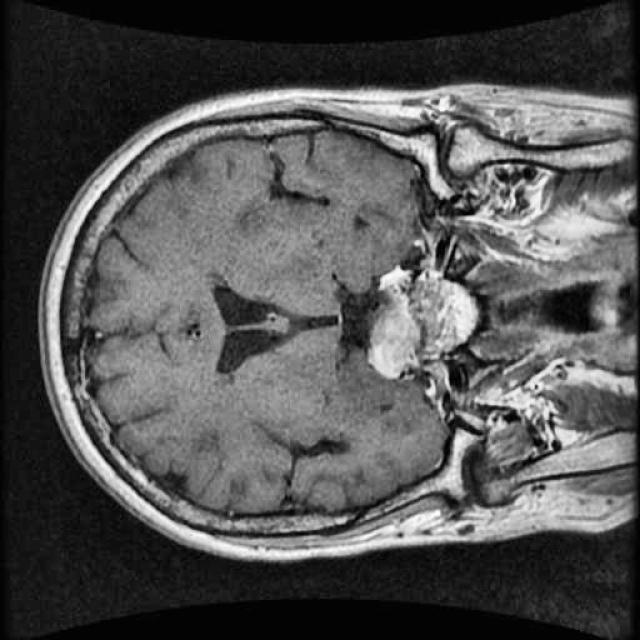Tumor: (356, 254, 439, 399)
